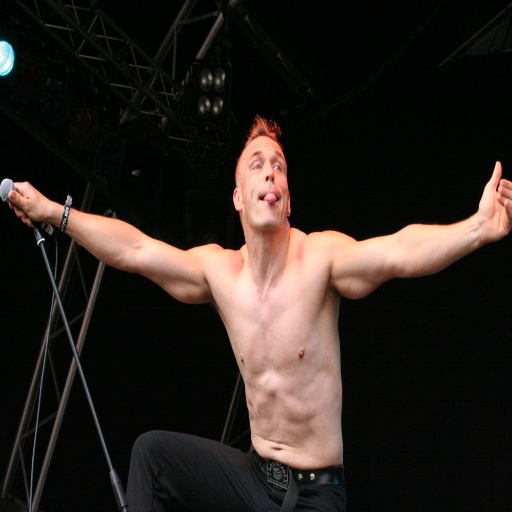hand: (437, 162, 512, 261), (8, 177, 54, 226)
